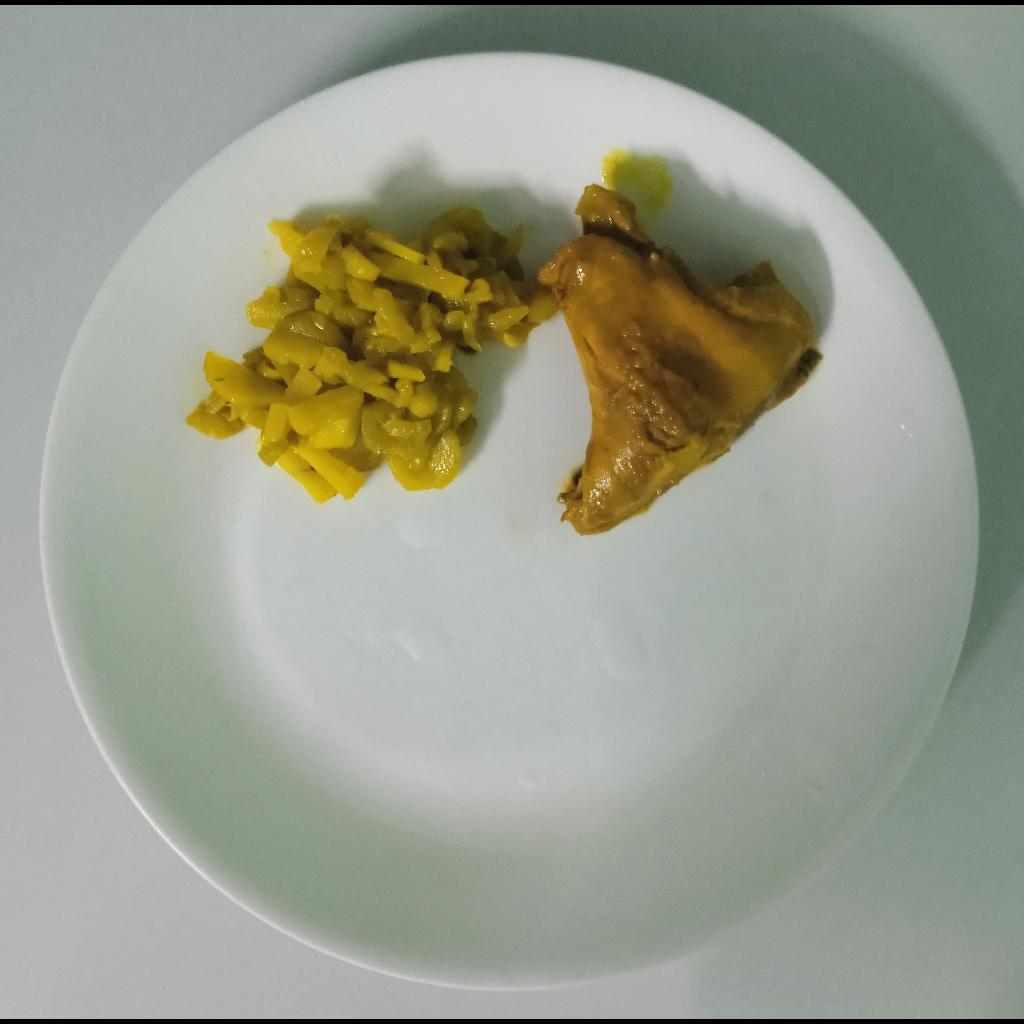chicken: (536, 180, 821, 535)
lau: (188, 205, 562, 502)
